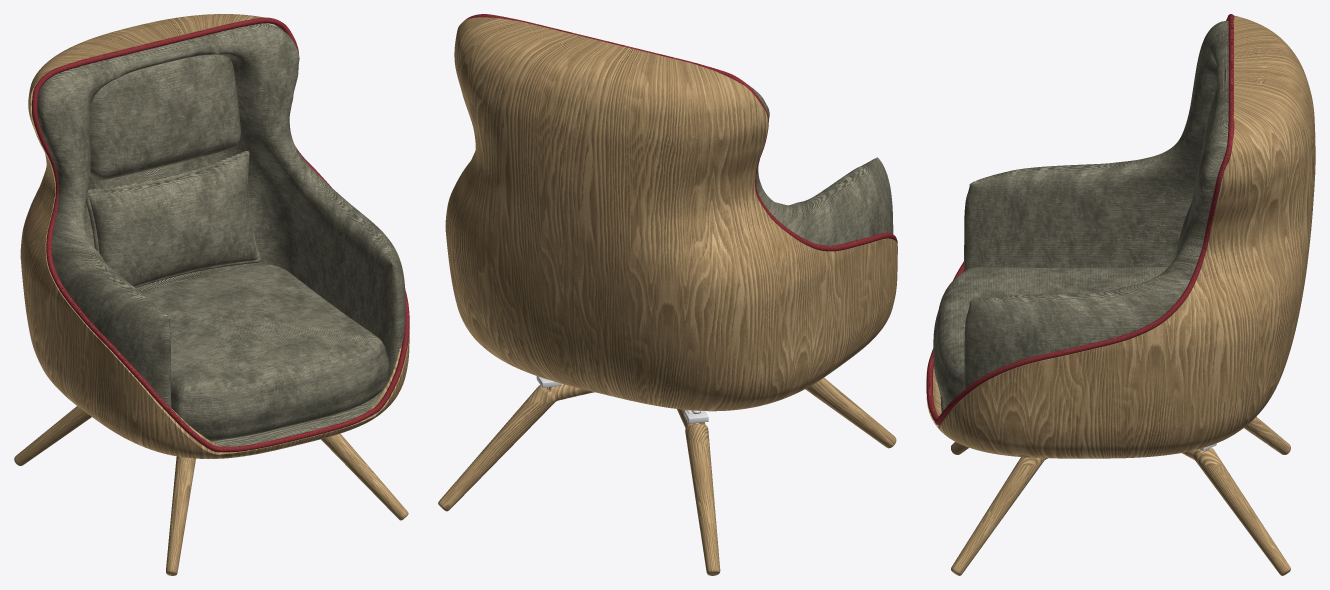
Rendered from fauteuil.glb.
3 renders of one model, left to right at view 1: azimuth 30°, elevation 25°; view 2: azimuth 150°, elevation 25°; view 3: azimuth 270°, elevation 25°, orthographic. The views are drawn at different scales.
Parts seen in each view (by area): view 1: Garnissage, Assise, CoqueBois, CoussinLombaire, AppuiTete, Passepoil, Pietement; view 2: CoqueBois, Pietement, Garnissage, Passepoil; view 3: CoqueBois, Garnissage, Assise, Pietement, Passepoil.
Part boxes in pixels (x1,y1,x2,y2): Garnissage: (37, 23, 405, 446); Assise: (141, 264, 389, 440); CoqueBois: (20, 14, 409, 458); CoussinLombaire: (86, 151, 260, 287); AppuiTete: (89, 54, 240, 179); Passepoil: (32, 17, 409, 452); Pietement: (14, 406, 408, 575); CoqueBois: (445, 17, 897, 411); Pietement: (438, 378, 896, 575); Garnissage: (748, 85, 893, 245); Passepoil: (464, 14, 897, 251); CoqueBois: (926, 15, 1315, 458); Garnissage: (940, 21, 1228, 412); Assise: (933, 267, 1167, 406); Pietement: (951, 417, 1290, 575); Passepoil: (926, 14, 1234, 424).
Size of the model in its own units: 0.78 by 1.03 by 0.8149.
6 materials, 5 textured.
